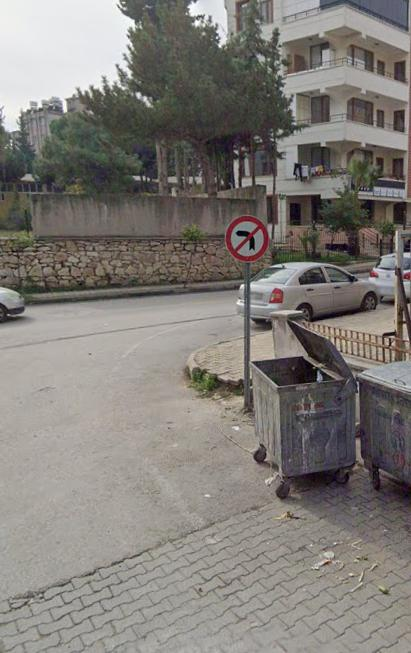leftturnsareforbidden: (222, 215, 276, 262)
